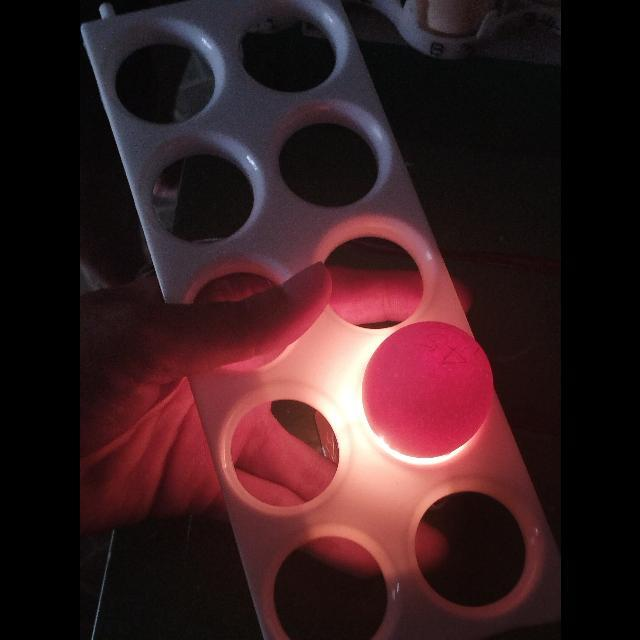Fertile: (360, 321, 494, 455)
